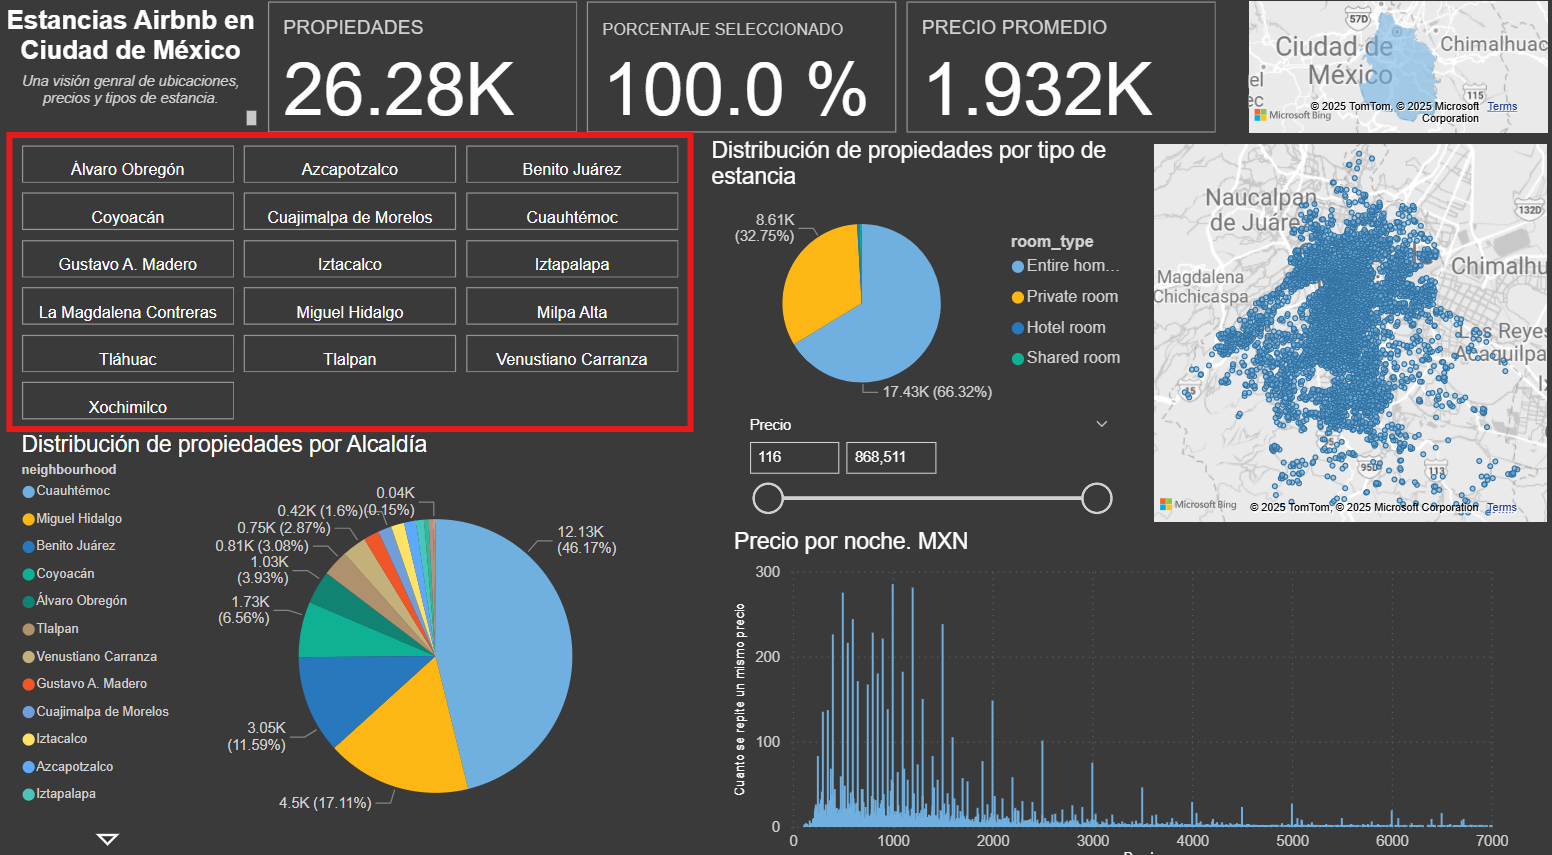

The page's visual inventory and layout, read from the dashboard file:
{"tool":"powerbi","page":{"name":"Dashboard","canvas":[1280,720],"ordinal":0},"visuals":[{"type":"advancedSlicerVisual","fields":{"Values":["Sheet1.neighbourhood"]},"box":[13.7,118,553,241.5],"z":0},{"type":"map","fields":{"Y":["Sheet1.latitude"],"X":["Sheet1.longitude"]},"box":[946.2,117.6,333.9,321.7],"z":1000},{"type":"filledMap","fields":{"Category":["Sheet1.Mapa_Alcaldia"]},"box":[1024.4,0,256.4,118.6],"z":2000},{"type":"pieChart","title":"Distribución de propiedades por Alcaldía","fields":{"Category":["Sheet1.neighbourhood"],"Y":["CountNonNull(Sheet1.neighbourhood)"]},"box":[13.7,359.5,553,348.6],"z":3000},{"type":"cardVisual","title":"propiedades","fields":{"Data":["Sheet1.TOTAL PROPIEDADES","Sheet1.PercentageSelected","Sheet1.PROMEDIO PRECIOS"]},"box":[216.7,0,791.7,118.3],"z":4000},{"type":"pieChart","title":"Distribución de propiedades por tipo de estancia","fields":{"Category":["Sheet1.room_type"],"Y":["CountNonNull(Sheet1.room_type)"]},"box":[582.6,117.6,363.6,231.1],"z":5000},{"type":"textbox","title":"Estancias Airbnb en Ciudad de México","box":[0,8.2,216.8,101.6],"z":6000},{"type":"columnChart","title":"Precio por noche. MXN","fields":{"Category":["Sheet1.price"],"Y":["CountNonNull(Sheet1.price)"]},"box":[600.2,439.3,647.5,281.2],"z":7000},{"type":"slicer","fields":{"Values":["Sheet1.price"]},"box":[605.6,342,320.4,97.3],"z":8000}]}

Visuals, with their boxes in screenshot pixels (x1, y1, x2, y2), scaled from the page's 1280x720 canvas onto the 1552x855 screenshot:
advancedSlicerVisual - Sheet1.neighbourhood: [x1=17, y1=140, x2=687, y2=427]
map - Sheet1.latitude x Sheet1.longitude: [x1=1147, y1=140, x2=1551, y2=522]
filledMap - Sheet1.Mapa_Alcaldia: [x1=1242, y1=0, x2=1551, y2=141]
"Distribución de propiedades por Alcaldía" pieChart: [x1=17, y1=427, x2=687, y2=841]
"propiedades" cardVisual: [x1=263, y1=0, x2=1223, y2=140]
"Distribución de propiedades por tipo de estancia" pieChart: [x1=706, y1=140, x2=1147, y2=414]
"Estancias Airbnb en Ciudad de México" textbox: [x1=0, y1=10, x2=263, y2=130]
"Precio por noche. MXN" columnChart: [x1=728, y1=522, x2=1513, y2=854]
slicer - Sheet1.price: [x1=734, y1=406, x2=1123, y2=522]
